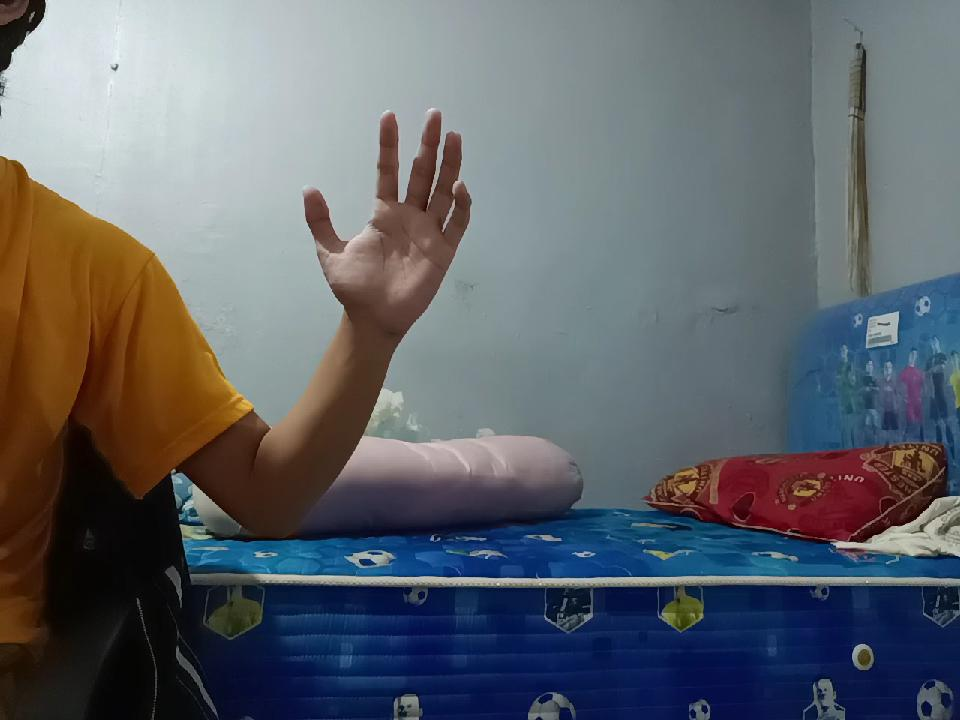paper: (302, 86, 470, 338)
